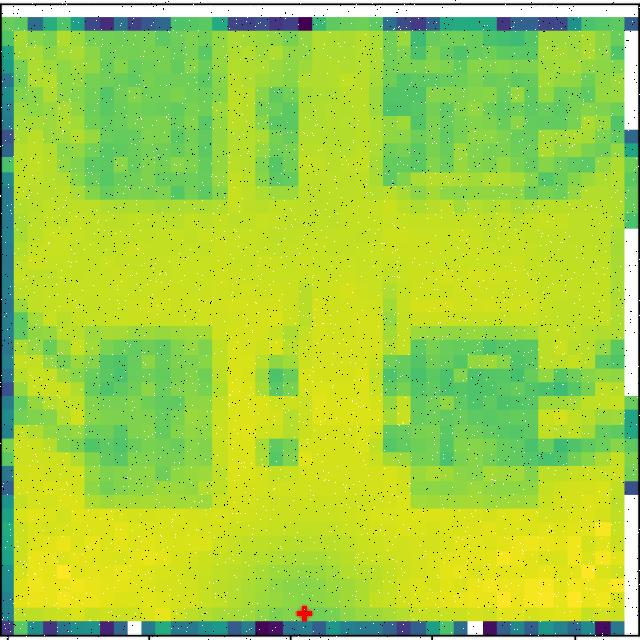Concrete: (72, 42, 233, 204)
Glass: (84, 332, 221, 510)
Metal: (411, 44, 579, 204)
Wood: (408, 326, 540, 502)
